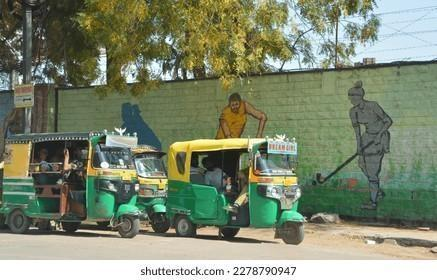keke: (4, 125, 149, 244), (165, 136, 304, 244)
